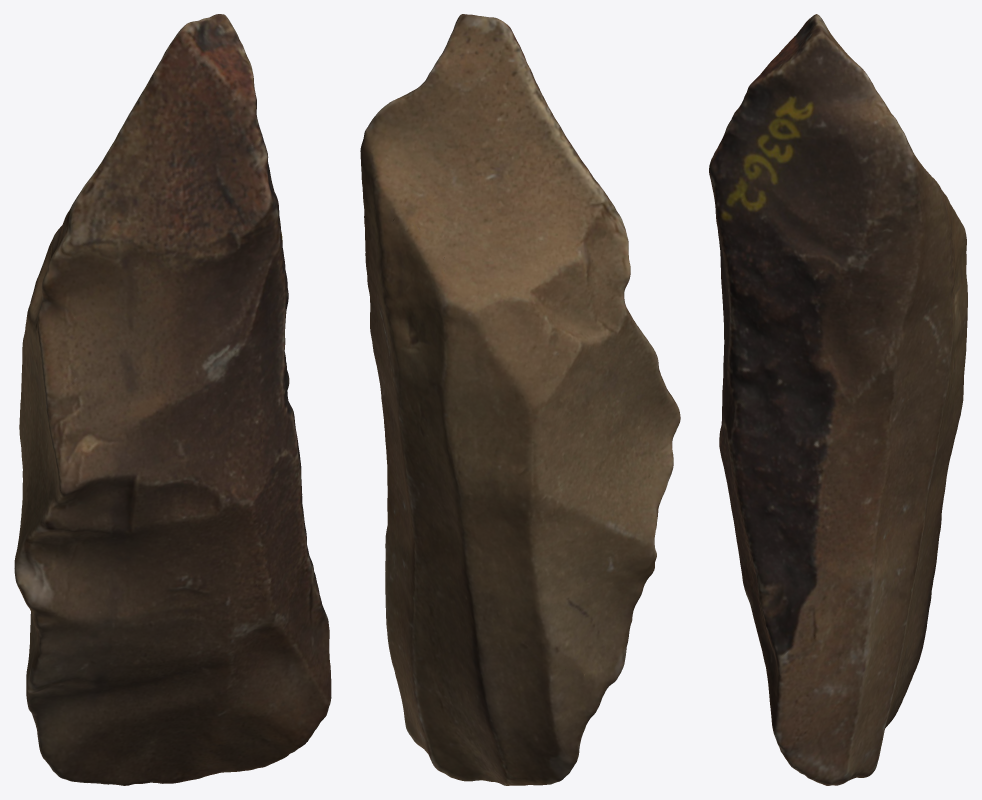
3 renders of one model, left to right at view 1: azimuth 30°, elevation 25°; view 2: azimuth 150°, elevation 25°; view 3: azimuth 270°, elevation 25°, orthographic. The views are drawn at different scales.
Visible parts, largest first — view 1: Node; view 2: Node; view 3: Node.
Part boxes in pixels (x1,y1,x2,y2): Node: (14,14,331,785); Node: (360,14,680,785); Node: (709,14,967,785).
Size of the model in its own units: 0.5112 by 1.31 by 0.411.
Materials: 1 (1 with a texture image).
